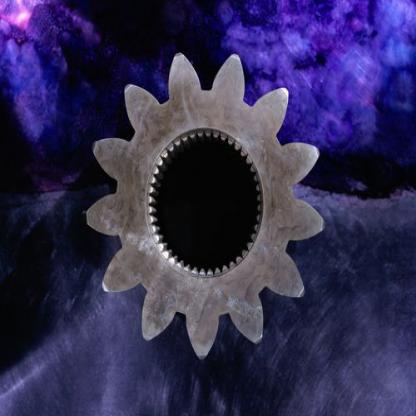FOD: (82, 41, 327, 365)
